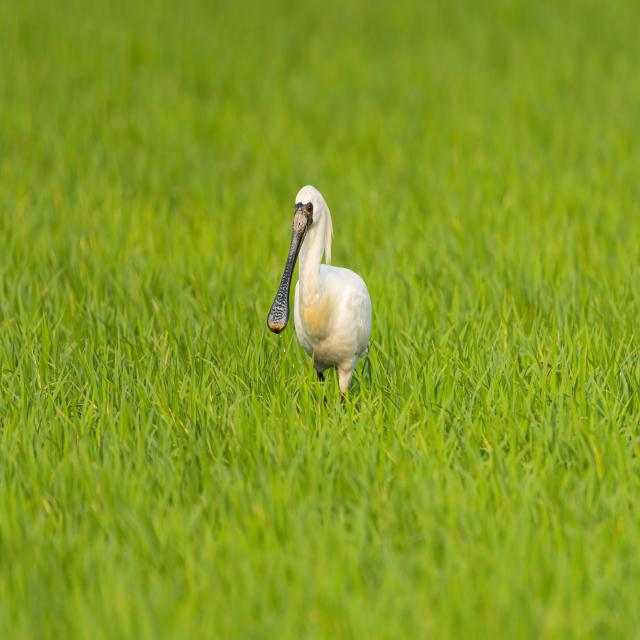Black-faced spoonbill: (268, 186, 371, 396)
